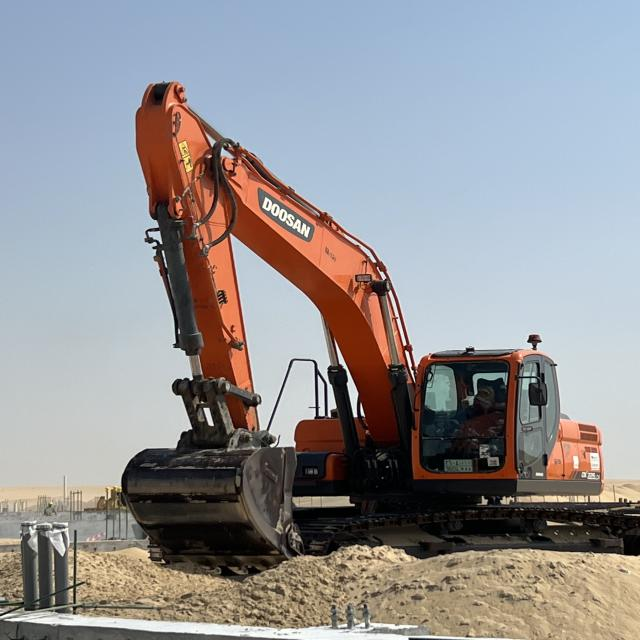Excavator: (119, 83, 637, 587)
